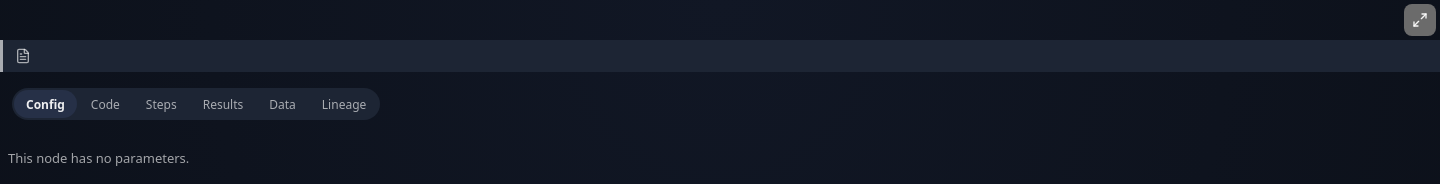
Test case: Results tab with a selected node but no results shows the run-first empty state
Click the button with test id "inspector-tab-results" at (223, 104), box x1=191 y1=90 x2=255 y2=118
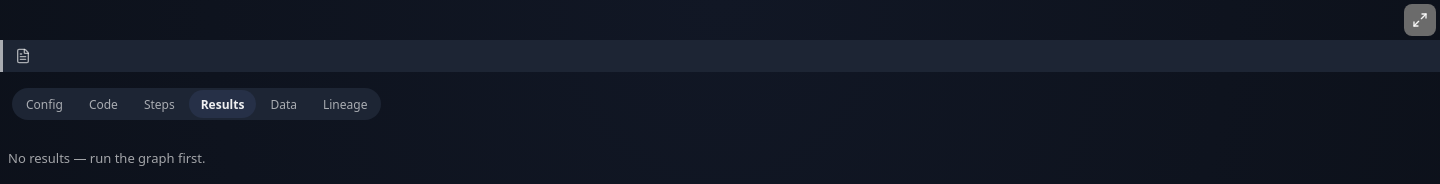
Check: the text "No results — run the graph first." is shown, box x1=8 y1=149 x2=206 y2=167
